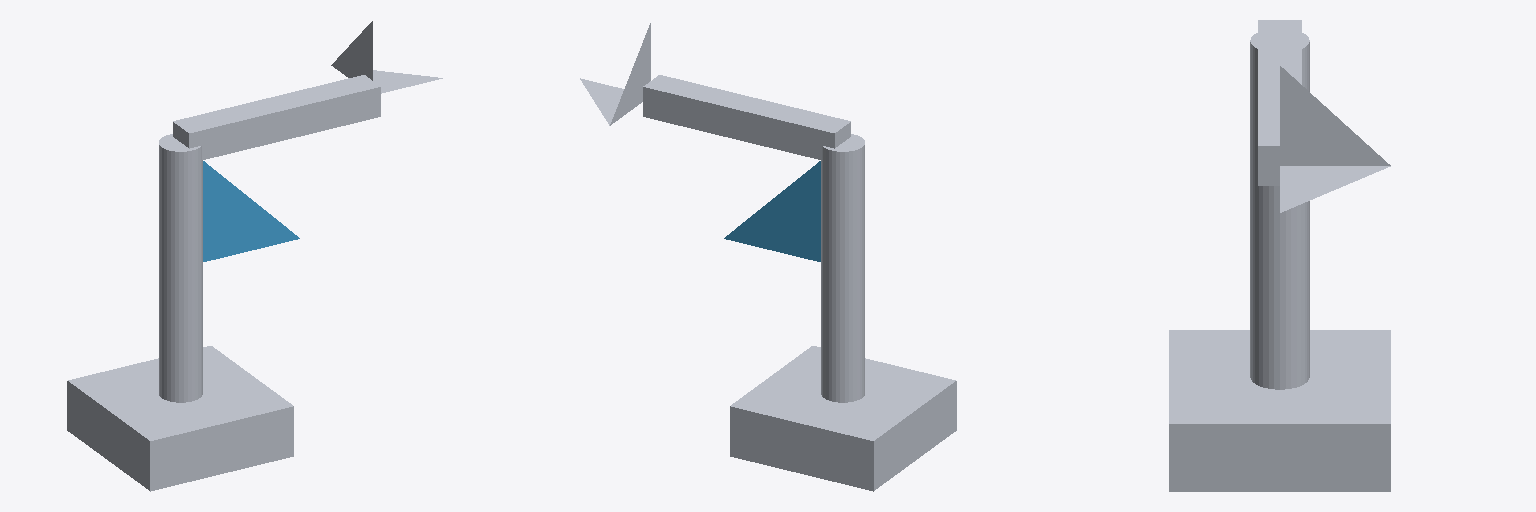
robot.urdf — fixture_arm:
<?xml version="1.0"?>
<!-- Offline ROS-style package for URL loading checks: package:// and relative meshes. -->
<robot name="fixture_arm">
  <material name="steel"><color rgba="0.82 0.84 0.88 1"/></material>
  <link name="base">
    <visual><geometry><box size="0.6 0.6 0.2"/></geometry><material name="steel"/></visual>
  </link>
  <link name="upper">
    <visual>
      <origin xyz="0 0 0.5"/>
      <geometry><mesh filename="package://arm_description/meshes/rotated.dae" scale="0.5 0.5 0.5"/></geometry>
    </visual>
    <visual><origin xyz="0 0 0.5"/><geometry><cylinder radius="0.08" length="1.0"/></geometry><material name="steel"/></visual>
  </link>
  <link name="lower">
    <visual><origin xyz="0.4 0 0"/><geometry><box size="0.8 0.12 0.12"/></geometry><material name="steel"/></visual>
  </link>
  <link name="tip">
    <visual><geometry><mesh filename="../meshes/tip.stl"/></geometry><material name="steel"/></visual>
  </link>
  <joint name="shoulder" type="revolute">
    <parent link="base"/><child link="upper"/><origin xyz="0 0 0.1"/>
    <axis xyz="0 0 1"/><limit lower="-3.1" upper="3.1" effort="1" velocity="1"/>
  </joint>
  <joint name="elbow" type="revolute">
    <parent link="upper"/><child link="lower"/><origin xyz="0 0 1.0"/>
    <axis xyz="0 1 0"/><limit lower="-1.5" upper="1.5" effort="1" velocity="1"/>
  </joint>
  <joint name="tool" type="fixed"><parent link="lower"/><child link="tip"/><origin xyz="0.8 0 0"/></joint>
</robot>

--- Render facts (derived) ---
The picture shows the robot from 3 angles, left to right: view 1: azimuth 30°, elevation 25°; view 2: azimuth 150°, elevation 25°; view 3: azimuth 270°, elevation 25°; orthographic projection.
Robot: fixture_arm — 4 links, 3 joints (2 revolute, 1 fixed); root link base; default pose: every joint at zero.
Links seen in each view (by area): view 1: base, upper, lower, tip; view 2: base, upper, lower, tip; view 3: base, upper, tip, lower.
Link boxes in pixels (x1,y1,x2,y2): base: (67, 346, 293, 491); upper: (159, 134, 299, 402); lower: (173, 75, 380, 159); tip: (331, 21, 442, 93); base: (730, 346, 956, 491); upper: (724, 134, 864, 402); lower: (643, 75, 850, 159); tip: (580, 23, 650, 125); base: (1169, 330, 1390, 491); upper: (1250, 33, 1309, 389); tip: (1280, 66, 1390, 212); lower: (1258, 20, 1301, 185).
Bounding box of the posed robot: 1.4 × 0.6 × 1.5 m (x, y, z).
Meshes: 2 distinct files referenced, 2 mesh visuals loaded (1 ASCII STL, 1 Collada DAE).
